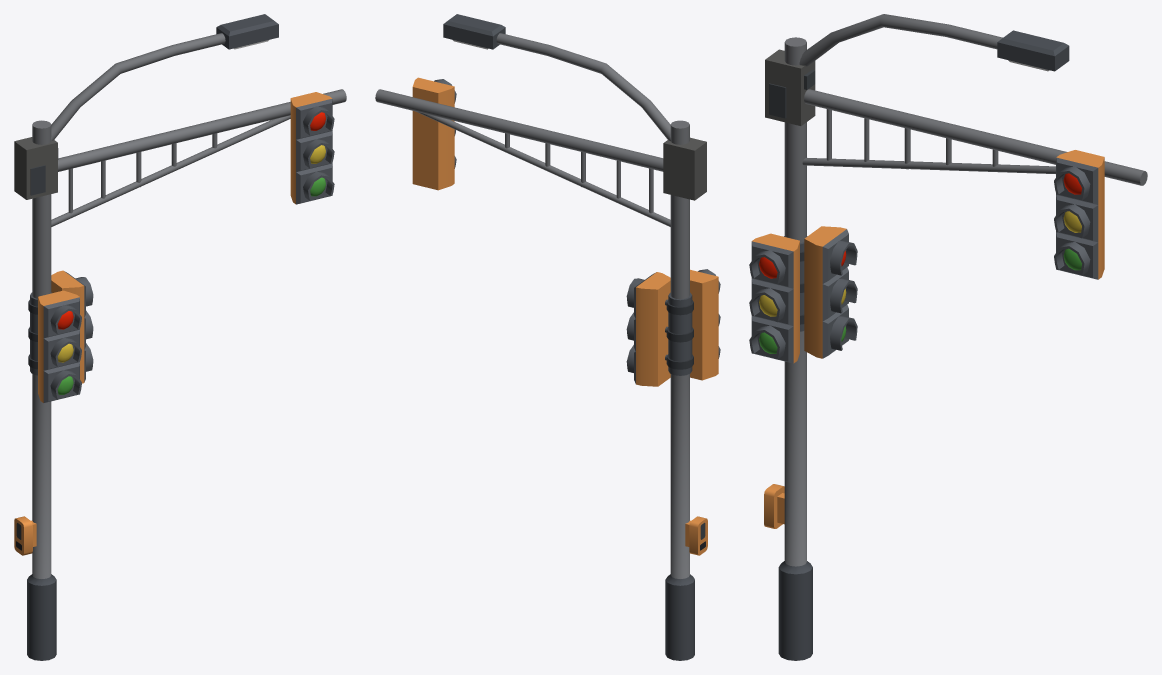
File: TrafficLight_2.fbx
The picture shows the model from 3 angles, left to right: view 1: azimuth 30°, elevation 25°; view 2: azimuth 150°, elevation 25°; view 3: azimuth 330°, elevation 25°; orthographic projection. The views are drawn at different scales.
Visible parts, largest first — view 1: TrafficLight_2; view 2: TrafficLight_2; view 3: TrafficLight_2.
Boxes of the visible parts, <box> form: TrafficLight_2: <box>14,14,346,660</box>; TrafficLight_2: <box>375,14,720,660</box>; TrafficLight_2: <box>749,14,1147,660</box>.
Size of the model in its own units: 205 by 350 by 42.11.
